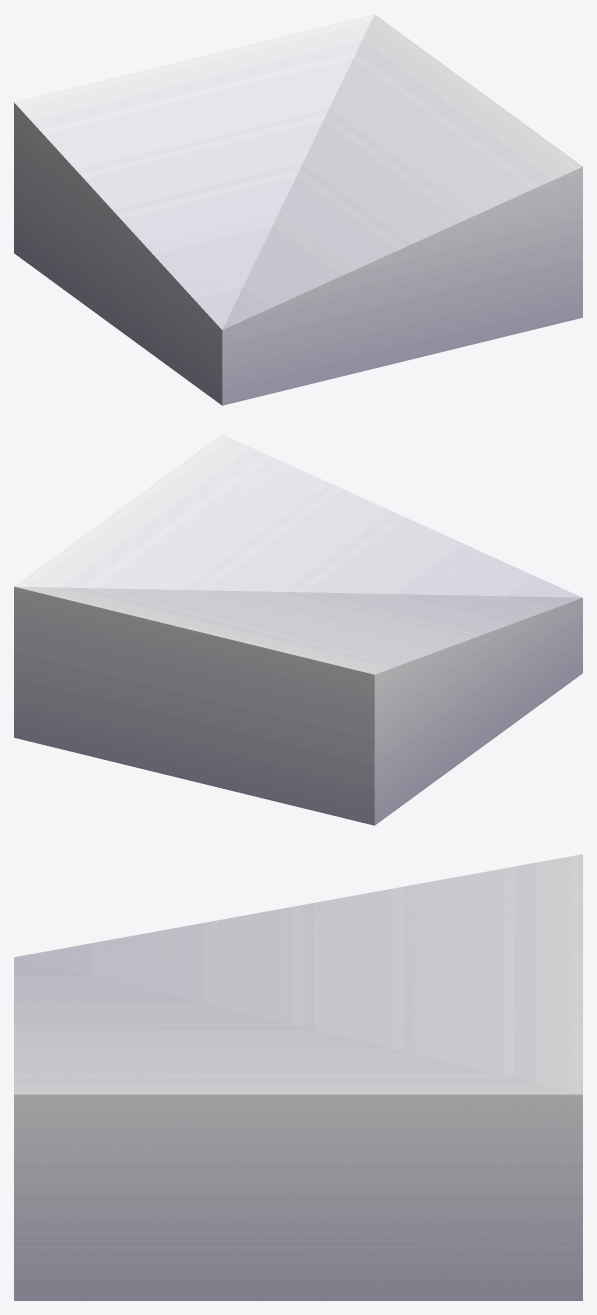
File: tower-defense-kit--snow-tile-corner-inner.glb
The picture shows the model from 3 angles, top to bottom: view 1: azimuth 30°, elevation 25°; view 2: azimuth 150°, elevation 25°; view 3: azimuth 270°, elevation 25°; orthographic projection. The views are drawn at different scales.
Visible parts, largest first — view 1: snow-tile-corner-inner; view 2: snow-tile-corner-inner; view 3: snow-tile-corner-inner.
Boxes of the visible parts, box(x1,y1,x2,y2) form: snow-tile-corner-inner: box(14, 14, 582, 405); snow-tile-corner-inner: box(14, 434, 582, 825); snow-tile-corner-inner: box(14, 854, 582, 1300).
Size of the model in its own units: 1 by 0.4 by 1.
Materials: 1 (1 with a texture image).
